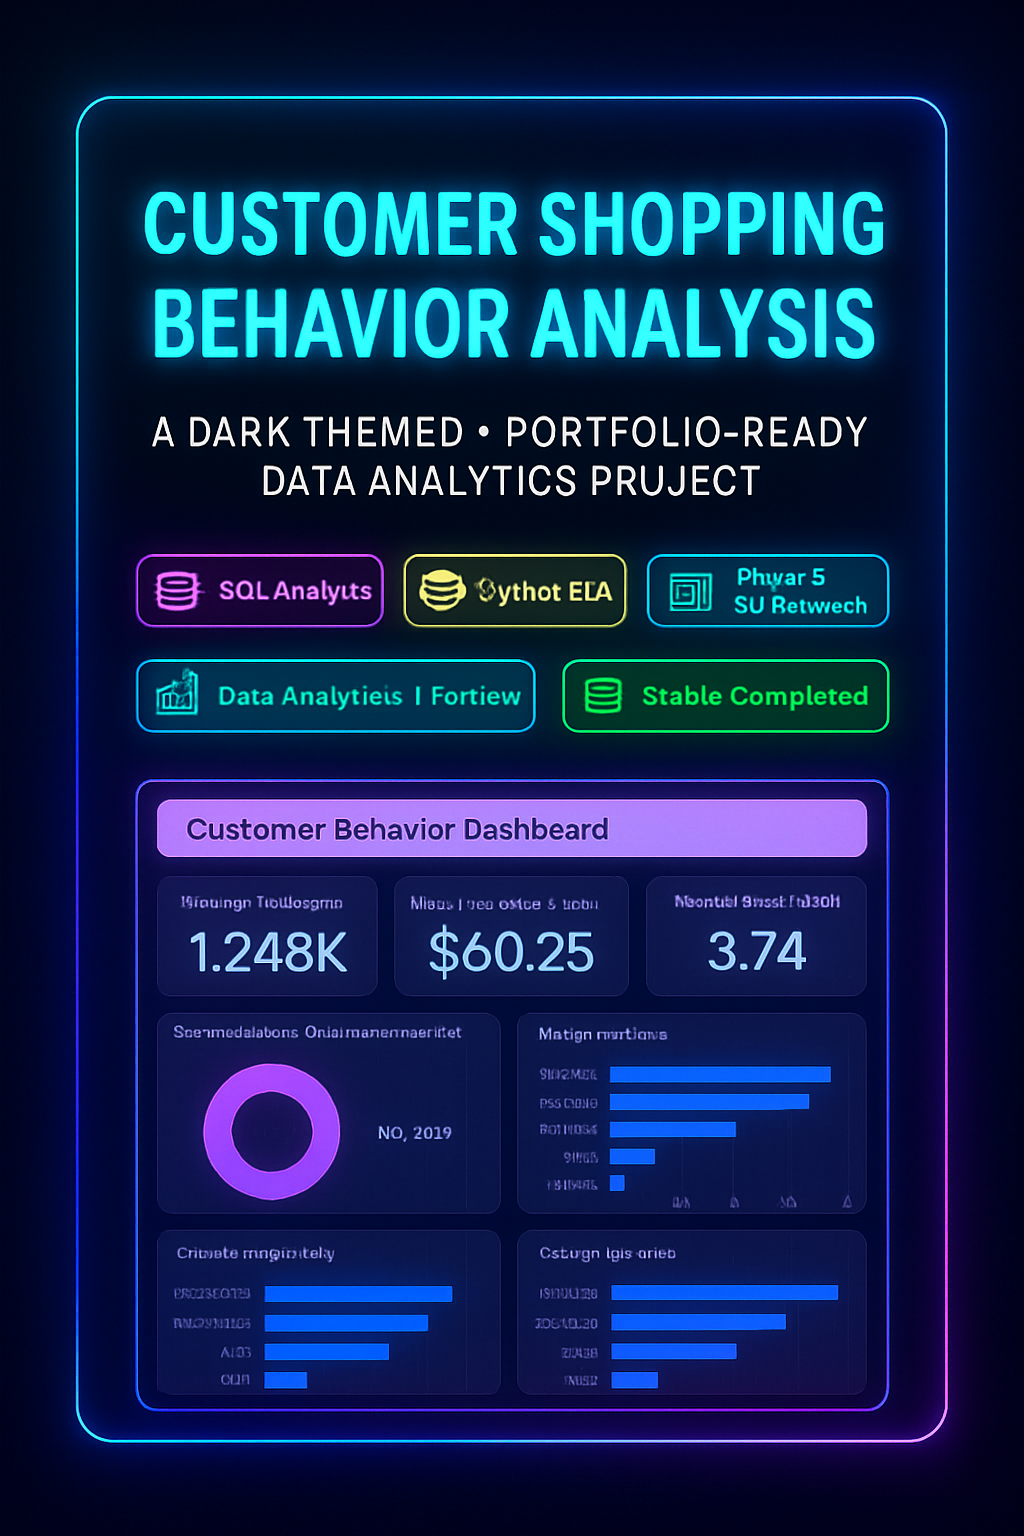

Layout of this report page (visuals, bound fields, positions):
{"tool":"powerbi","page":{"name":"Customer_Behavior","canvas":[1280,720],"ordinal":0},"visuals":[{"type":"cardVisual","fields":{"Data":["public customer.Number of Customers","public customer.Average Purchase Amount","public customer.Average Review Rating"]},"box":[170.6,79.4,1109.9,189.2],"z":0},{"type":"shape","box":[0,0,1280.6,79.4],"z":1000},{"type":"textbox","box":[0,0,1251.8,79.4],"z":2000},{"type":"shape","box":[194.3,236.5,368.3,282.1],"z":3000},{"type":"donutChart","title":"% of Customers by Subscription Status","fields":{"Category":["public customer.subscription_status"],"Y":["CountNonNull(public customer.customer_id)"]},"box":[212.9,251.7,331.1,250],"z":4000},{"type":"shape","box":[559.2,236.5,353.1,282.1],"z":5000},{"type":"shape","box":[912.3,236.5,356.5,282.1],"z":6000},{"type":"clusteredColumnChart","title":"Revenue by category","fields":{"Y":["Sum(public customer.purchase_amount)"],"Category":["public customer.category"]},"box":[579.5,250,312.5,251],"z":7000},{"type":"clusteredColumnChart","title":"Sales by category","fields":{"Y":["CountNonNull(public customer.customer_id)"],"Category":["public customer.category"]},"box":[930.9,251.7,318,252],"z":8000},{"type":"shape","box":[0,79.4,197.7,640.3],"z":9000},{"type":"advancedSlicerVisual","fields":{"Values":["public customer.subscription_status"]},"box":[16.9,111.5,165.6,82.8],"z":10000},{"type":"advancedSlicerVisual","fields":{"Values":["public customer.gender"]},"box":[15.2,194.3,167.3,74.3],"z":11000},{"type":"advancedSlicerVisual","title":"Category","fields":{"Values":["public customer.category"]},"box":[11.8,268.6,150.4,234.8],"z":12000},{"type":"listSlicer","title":"Shipping Type","fields":{"Values":["public customer.shipping_type"]},"box":[16.9,501.8,165.6,190.9],"z":13000},{"type":"shape","box":[736.6,518.6,544,201],"z":15000},{"type":"clusteredBarChart","title":"Sales by Age Group","fields":{"Y":["CountNonNull(public customer.customer_id)"],"Category":["public customer.age_group"]},"box":[772.1,533.8,474.7,172.3],"z":16000},{"type":"shape","box":[197.7,518.6,544,201],"z":16001},{"type":"clusteredBarChart","title":"Revenue by Age Group","fields":{"Y":["Sum(public customer.purchase_amount)"],"Category":["public customer.age_group"]},"box":[231.4,533.8,474.7,172.3],"z":16002}]}

Visuals, with their boxes on the page's 1280x720 design canvas (x1, y1, x2, y2). These are canvas units, not pixel positions in the 1024x1536 screenshot, which may show the page scaled, cropped or inside an application window:
cardVisual - public customer.Number of Customers x public customer.Average Purchase Amount: region(171, 79, 1280, 269)
shape: region(0, 0, 1281, 79)
textbox: region(0, 0, 1252, 79)
shape: region(194, 236, 563, 519)
"% of Customers by Subscription Status" donutChart: region(213, 252, 544, 502)
shape: region(559, 236, 912, 519)
shape: region(912, 236, 1269, 519)
"Revenue by category" clusteredColumnChart: region(580, 250, 892, 501)
"Sales by category" clusteredColumnChart: region(931, 252, 1249, 504)
shape: region(0, 79, 198, 720)
advancedSlicerVisual - public customer.subscription_status: region(17, 112, 182, 194)
advancedSlicerVisual - public customer.gender: region(15, 194, 182, 269)
"Category" advancedSlicerVisual: region(12, 269, 162, 503)
"Shipping Type" listSlicer: region(17, 502, 182, 693)
shape: region(737, 519, 1281, 720)
"Sales by Age Group" clusteredBarChart: region(772, 534, 1247, 706)
shape: region(198, 519, 742, 720)
"Revenue by Age Group" clusteredBarChart: region(231, 534, 706, 706)
